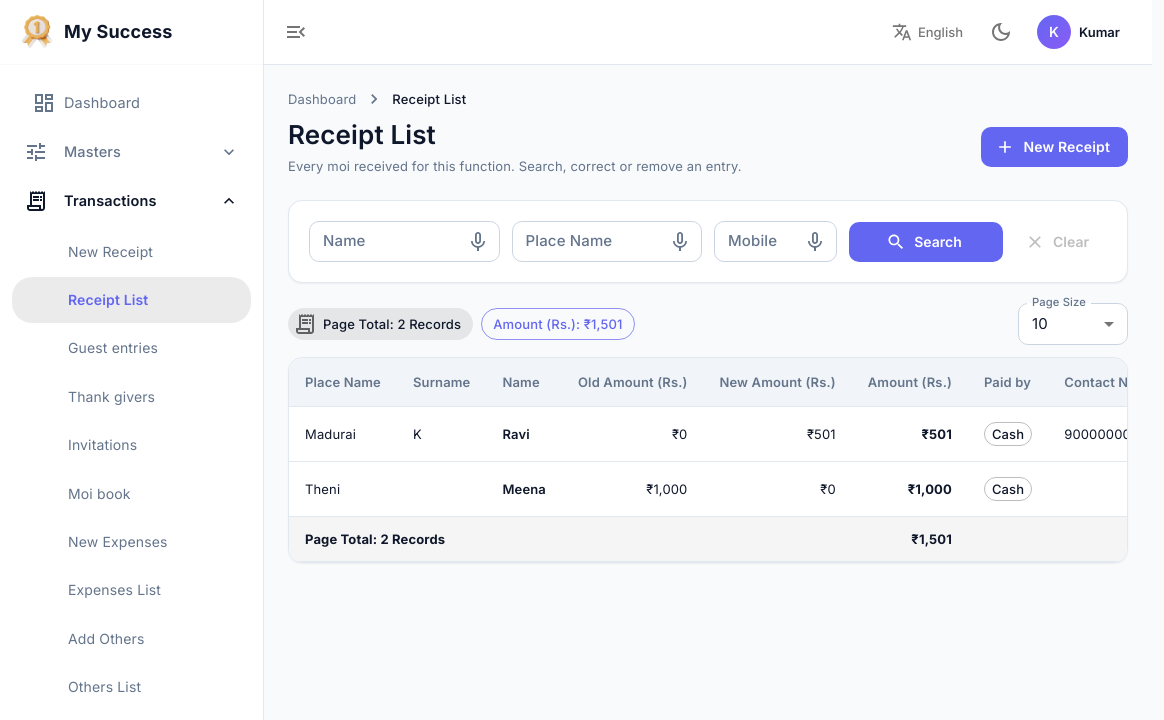
Test: Receipt list › searches by name and Clear brings everything back
Expected: the text "Meena" is shown, [486,461,562,516]
Type "Ravi" into the field labelled "Name" at [379, 242], box [309,221,450,262]
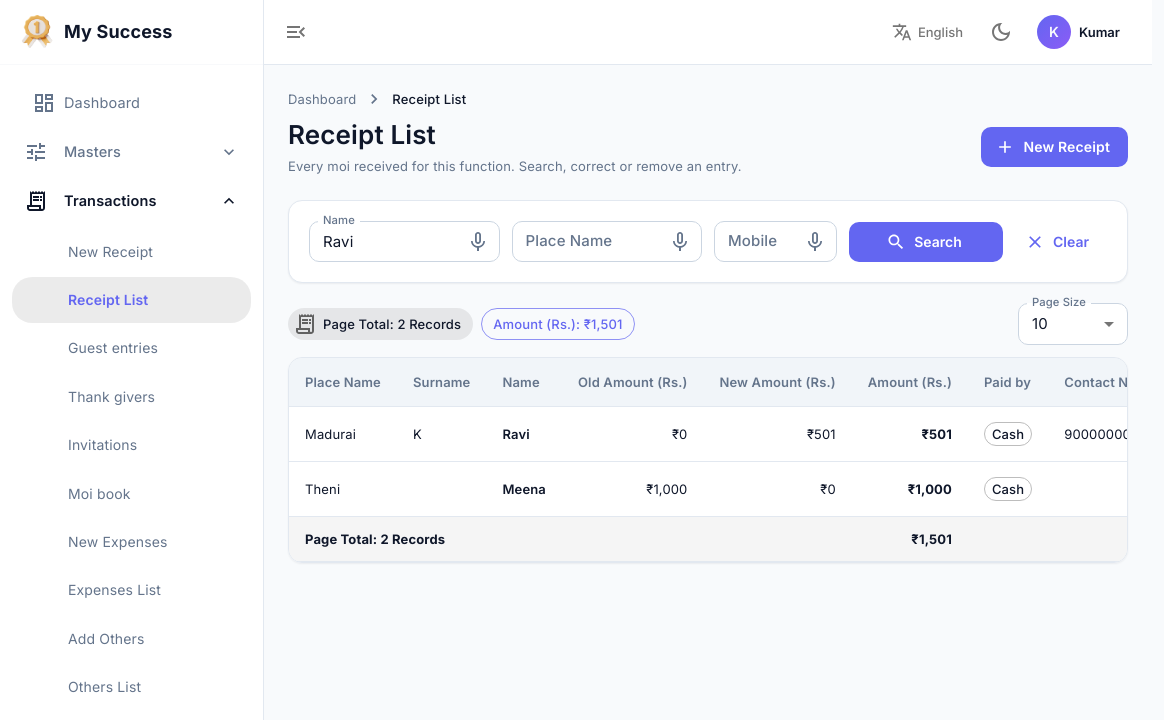
Click the button "Search" at [926, 242], box [849,222,1003,262]
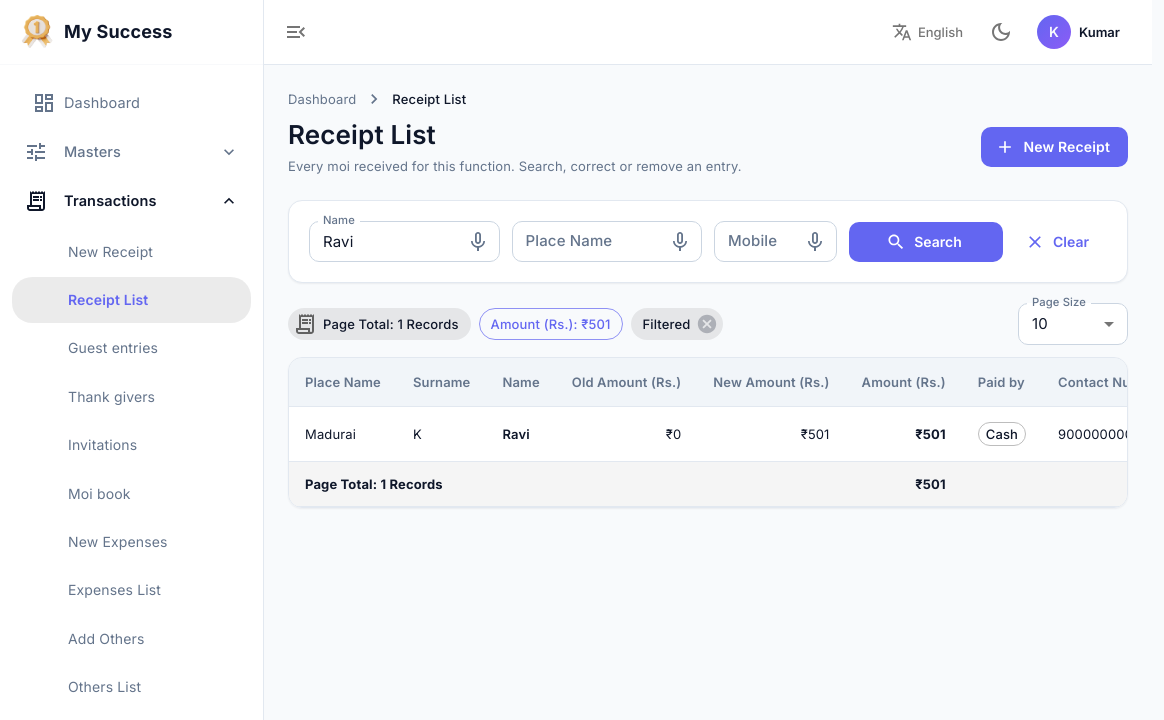
Expected: the text "Meena" is gone
Click the button "Clear" at [1059, 242], box [1011,222,1107,262]
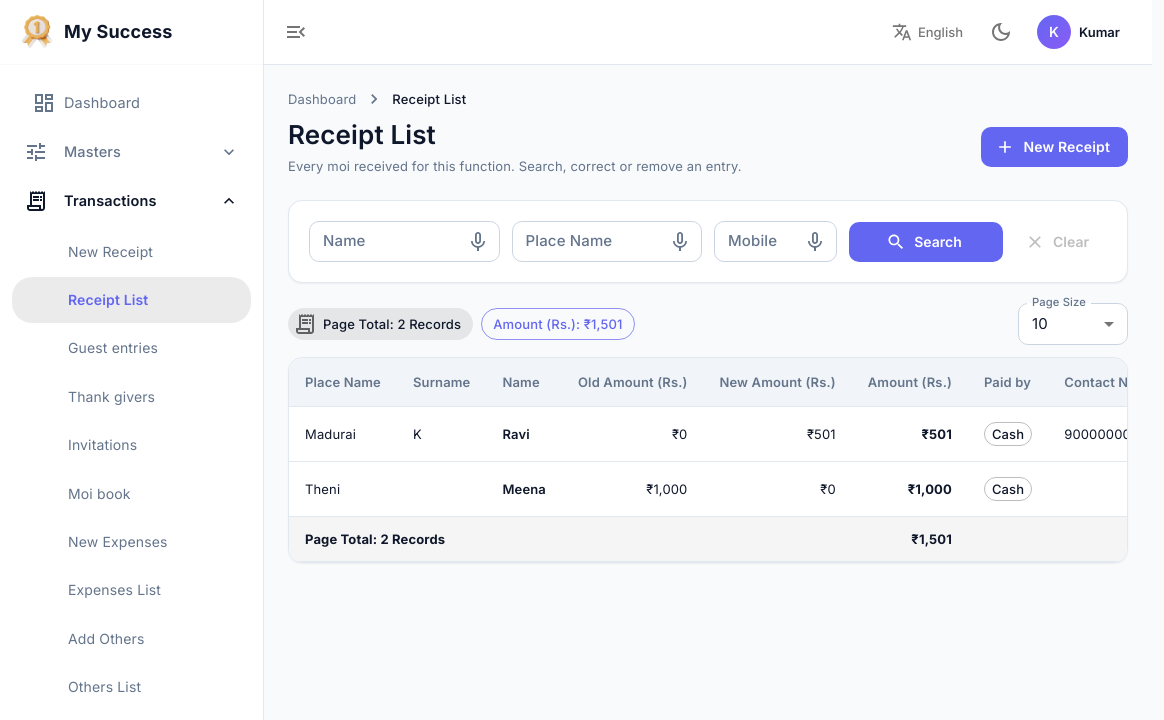
Expected: the text "Meena" is shown, [486,461,562,516]
